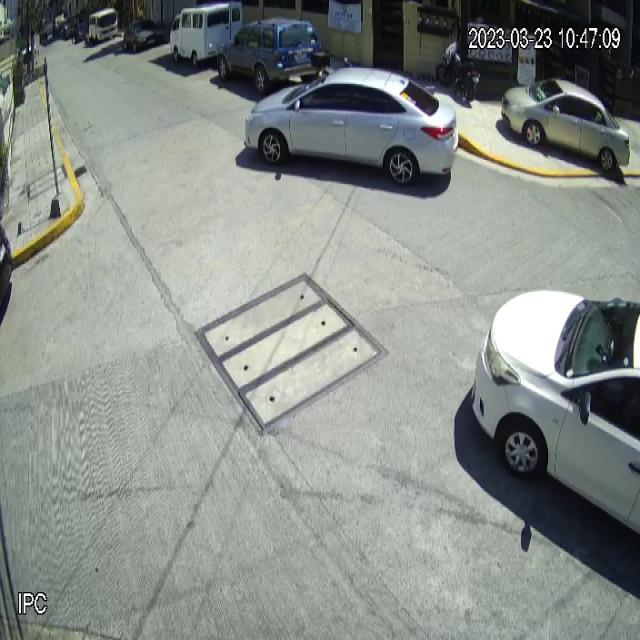Car: (469, 286, 640, 532), (243, 63, 460, 188), (501, 76, 630, 170), (216, 18, 320, 97)
Van: (169, 0, 244, 69)
